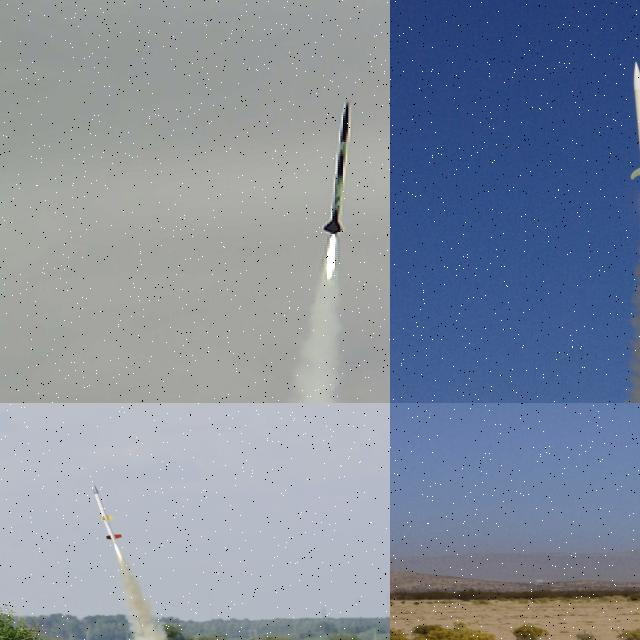Rocket: (323, 100, 351, 235), (92, 483, 123, 540), (630, 60, 640, 181)
